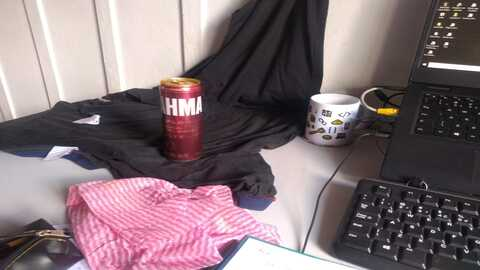duplo_malte: (153, 74, 210, 166)
